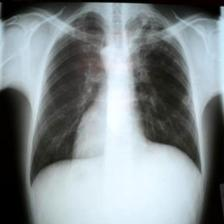tuberculosis: (27, 8, 204, 192)
